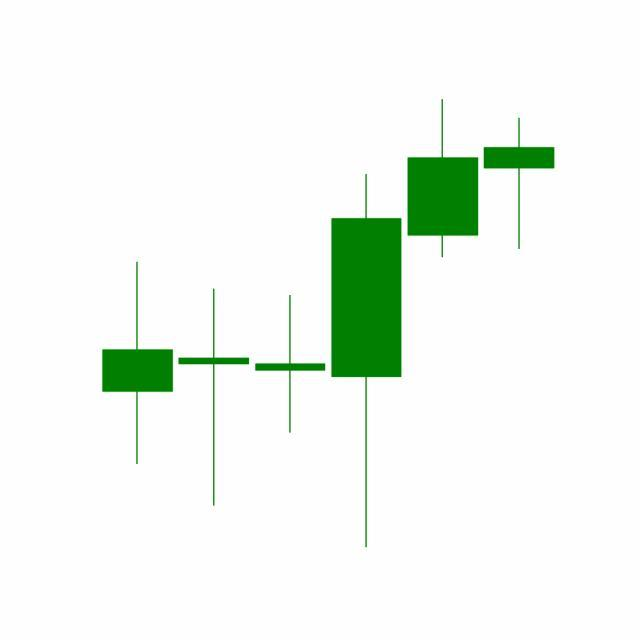Advance Block: (326, 99, 555, 549)
